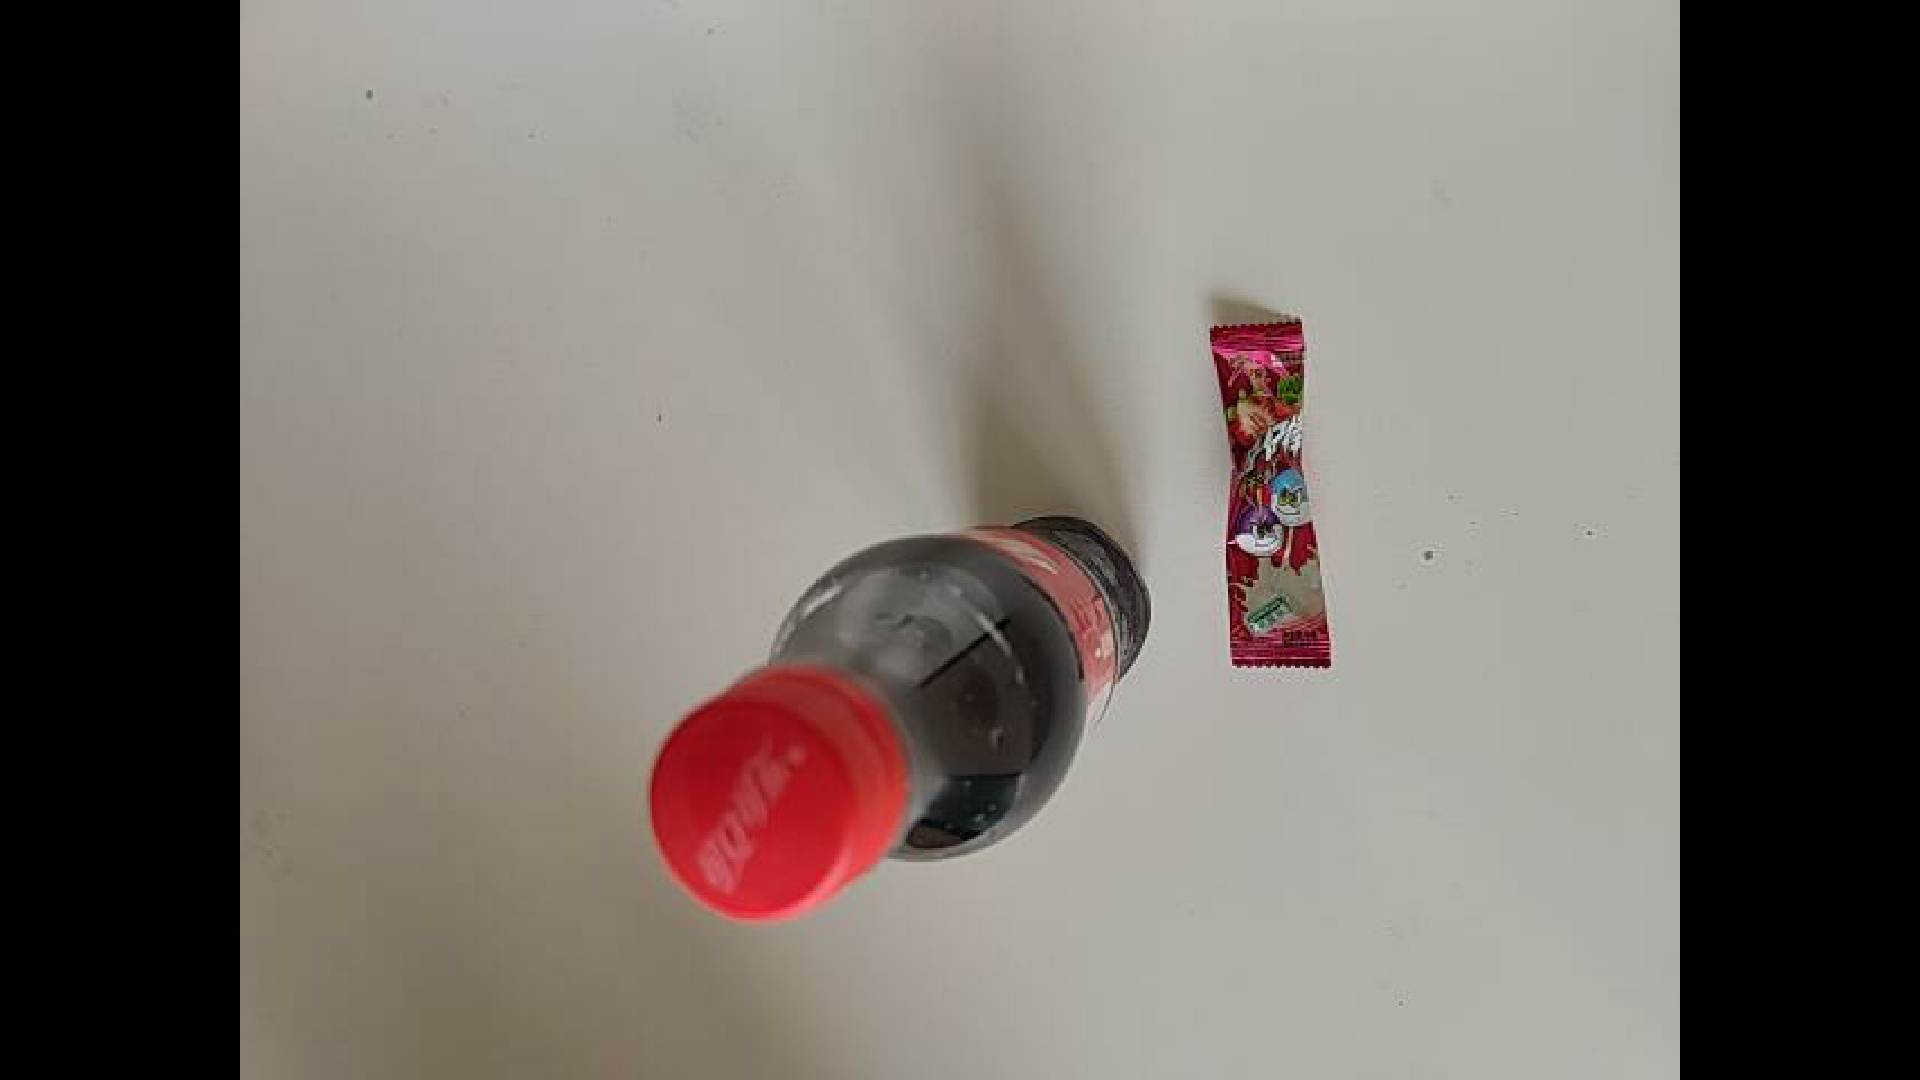cola: (647, 514, 1153, 924)
sugar: (1208, 318, 1332, 671)
